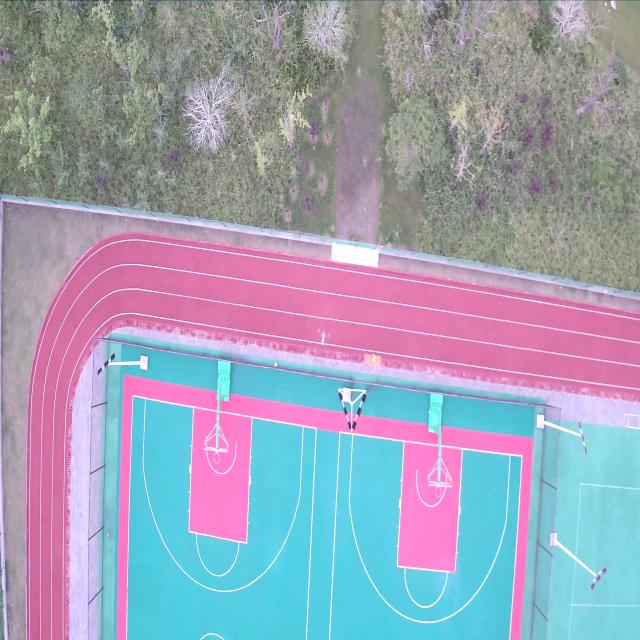UAV: (317, 328, 329, 349)
